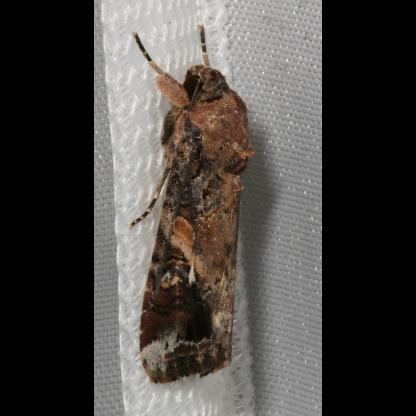Fall Armyworm Moth: (124, 21, 260, 387)
